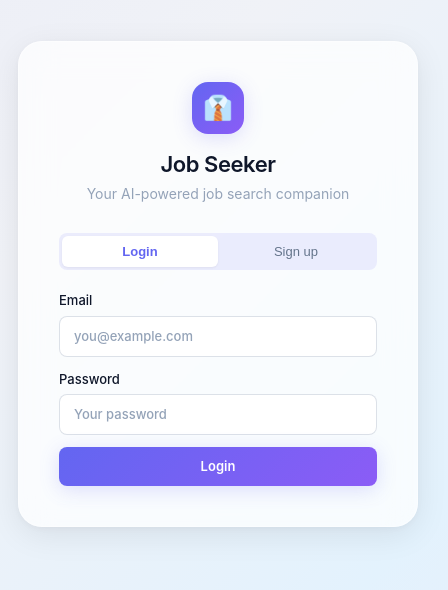
Test: App - unauthenticated › shows error message on login failure
The width and height of the screenshot is (448, 590).
Expected: the heading "Job Seeker" is shown, [160,151,276,177]
Type "bad@test.com" into the field with placeholder "you@example.com".
click(218, 336); type("bad@test.com")  # box [59,316,377,357]
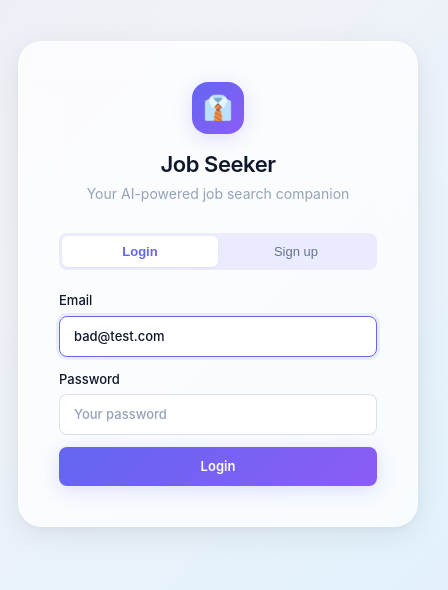
Type "wrong" into the password field with placeholder "Your password".
click(218, 415); type("wrong")  # box [59,394,377,435]
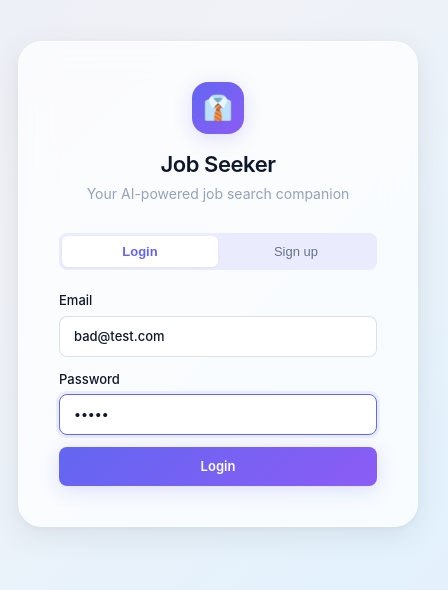
Click the button "Login" below "Password".
click(218, 467)  # box [59,447,377,486]
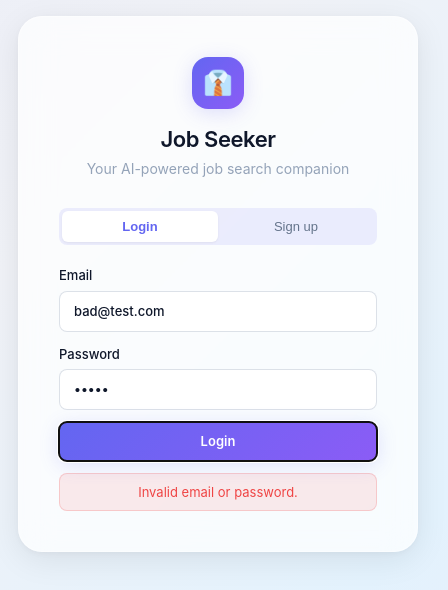
Expected: the text "Invalid email or password." is shown, [59,473,377,511]
